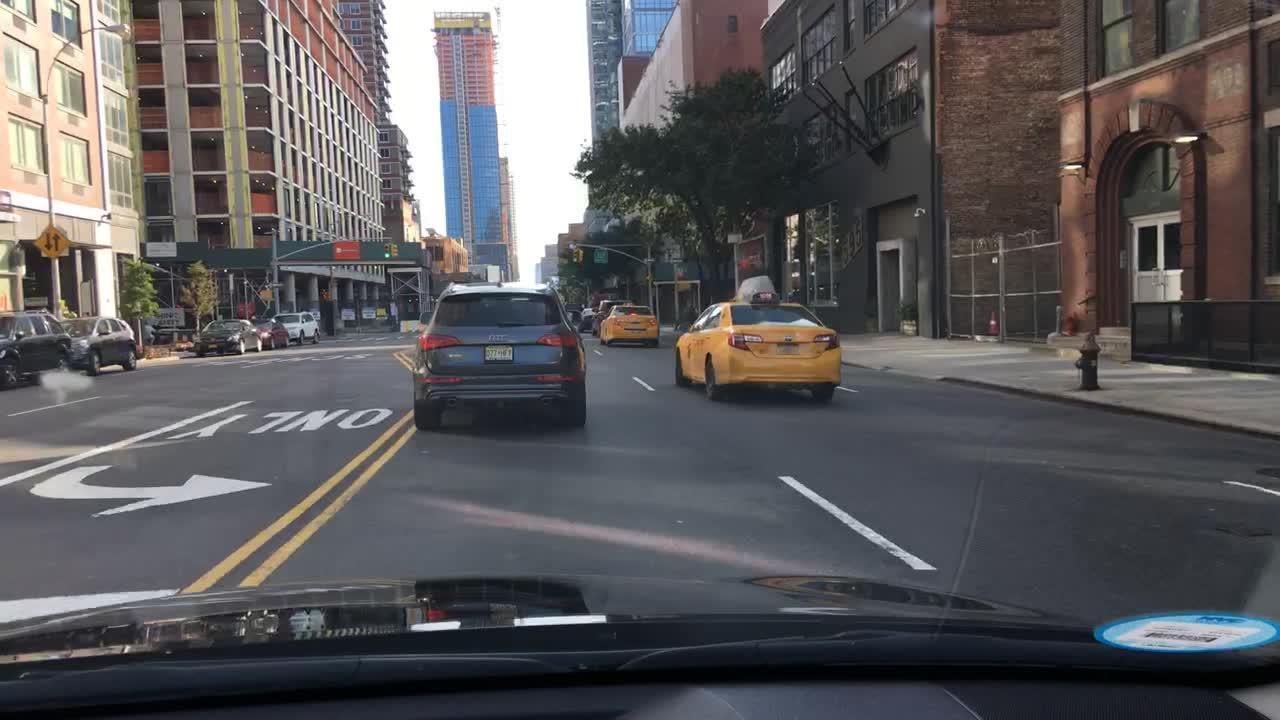Audi: (483, 330, 515, 344)
